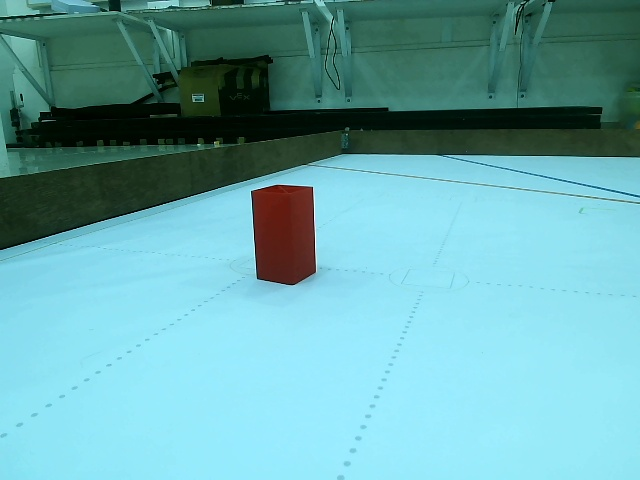red: (252, 188, 317, 282)
